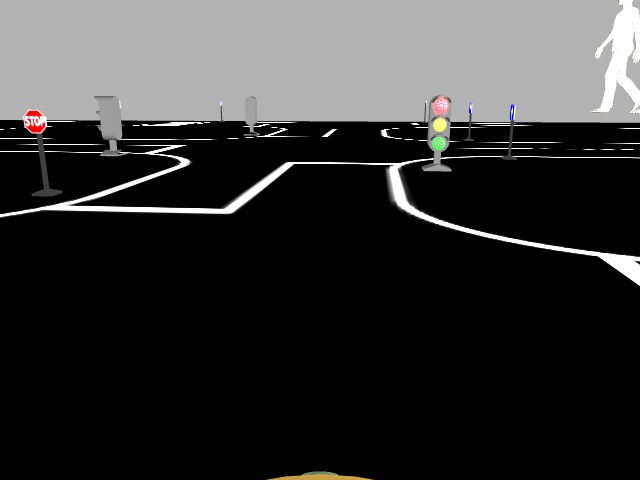Stop: (20, 107, 46, 134)
TrafficLight: (426, 94, 450, 153)
